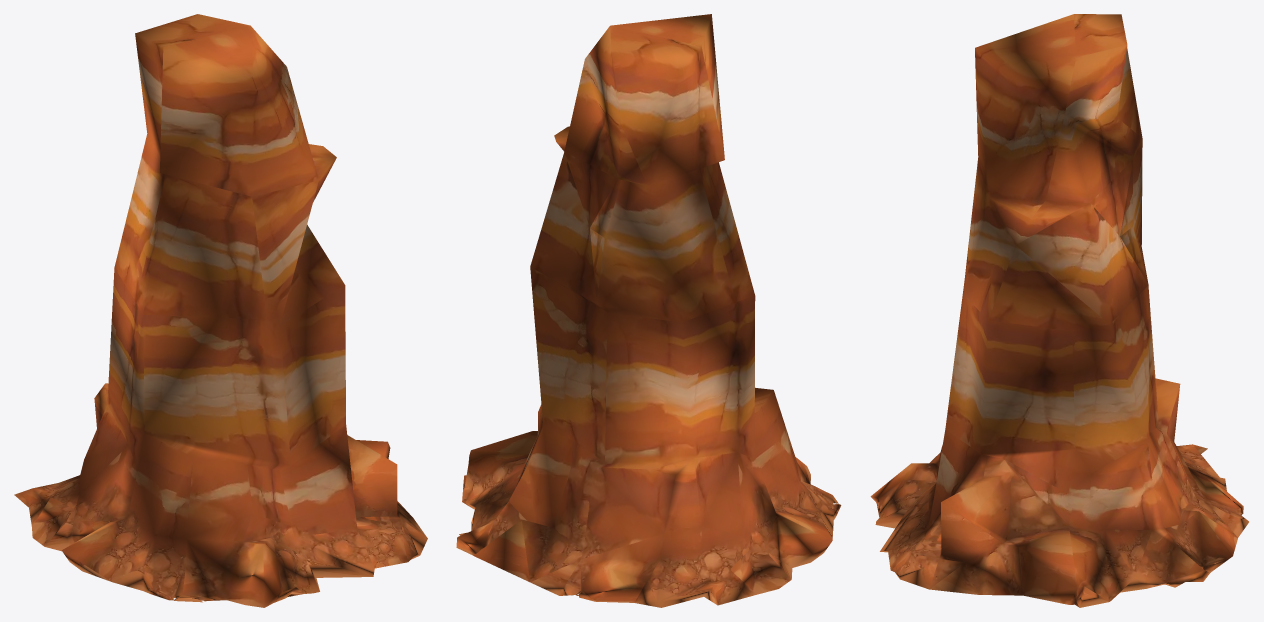
Rendered from vista-butte.glb.
The picture shows the model from 3 angles, left to right: view 1: azimuth 30°, elevation 25°; view 2: azimuth 150°, elevation 25°; view 3: azimuth 270°, elevation 25°; orthographic projection. The views are drawn at different scales.
Parts seen in each view (by area): view 1: tripo_node_17beaf9f-65ae-49d3-accb-4ca9edd72907; view 2: tripo_node_17beaf9f-65ae-49d3-accb-4ca9edd72907; view 3: tripo_node_17beaf9f-65ae-49d3-accb-4ca9edd72907.
Boxes of the visible parts, box(x1,y1,x2,y2) form: tripo_node_17beaf9f-65ae-49d3-accb-4ca9edd72907: box(14, 14, 427, 607); tripo_node_17beaf9f-65ae-49d3-accb-4ca9edd72907: box(456, 14, 841, 607); tripo_node_17beaf9f-65ae-49d3-accb-4ca9edd72907: box(870, 14, 1248, 607).
Bounding box in the file's own units: 0.7382 × 0.9978 × 0.7095.
1 material, 1 textured.
